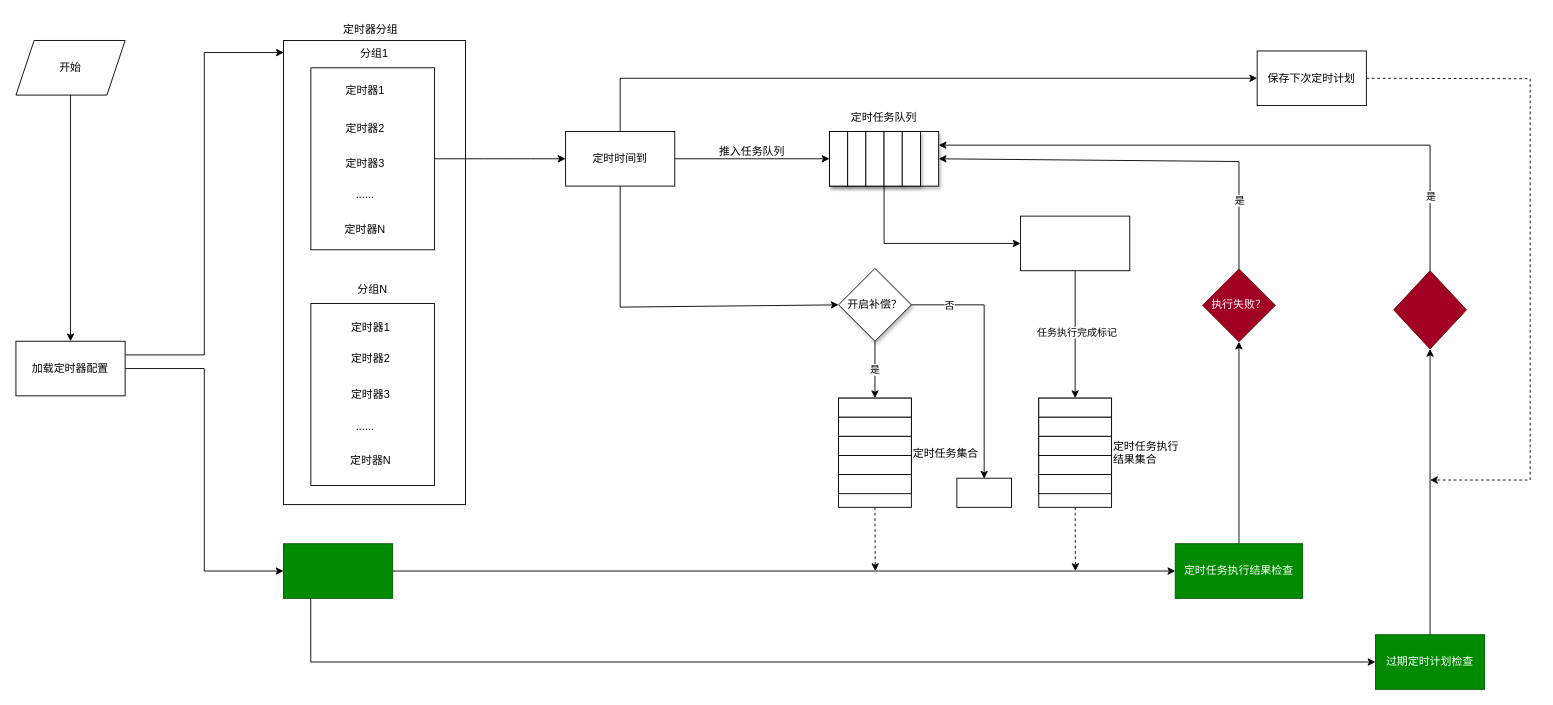
Image size: 1553x705. Some labels were removed from this diagram. The shapes that lost their labels are listed below. From the top down, each one's centre as x and y in pixels, then its label:
At (x=1075, y=243): "定时任务消费".
At (x=1429, y=309): "存在过期的定时计划？".
At (x=983, y=492): "不做任何处理".
At (x=338, y=570): "守护进程 定时计划及定时任务执行结果检查".
